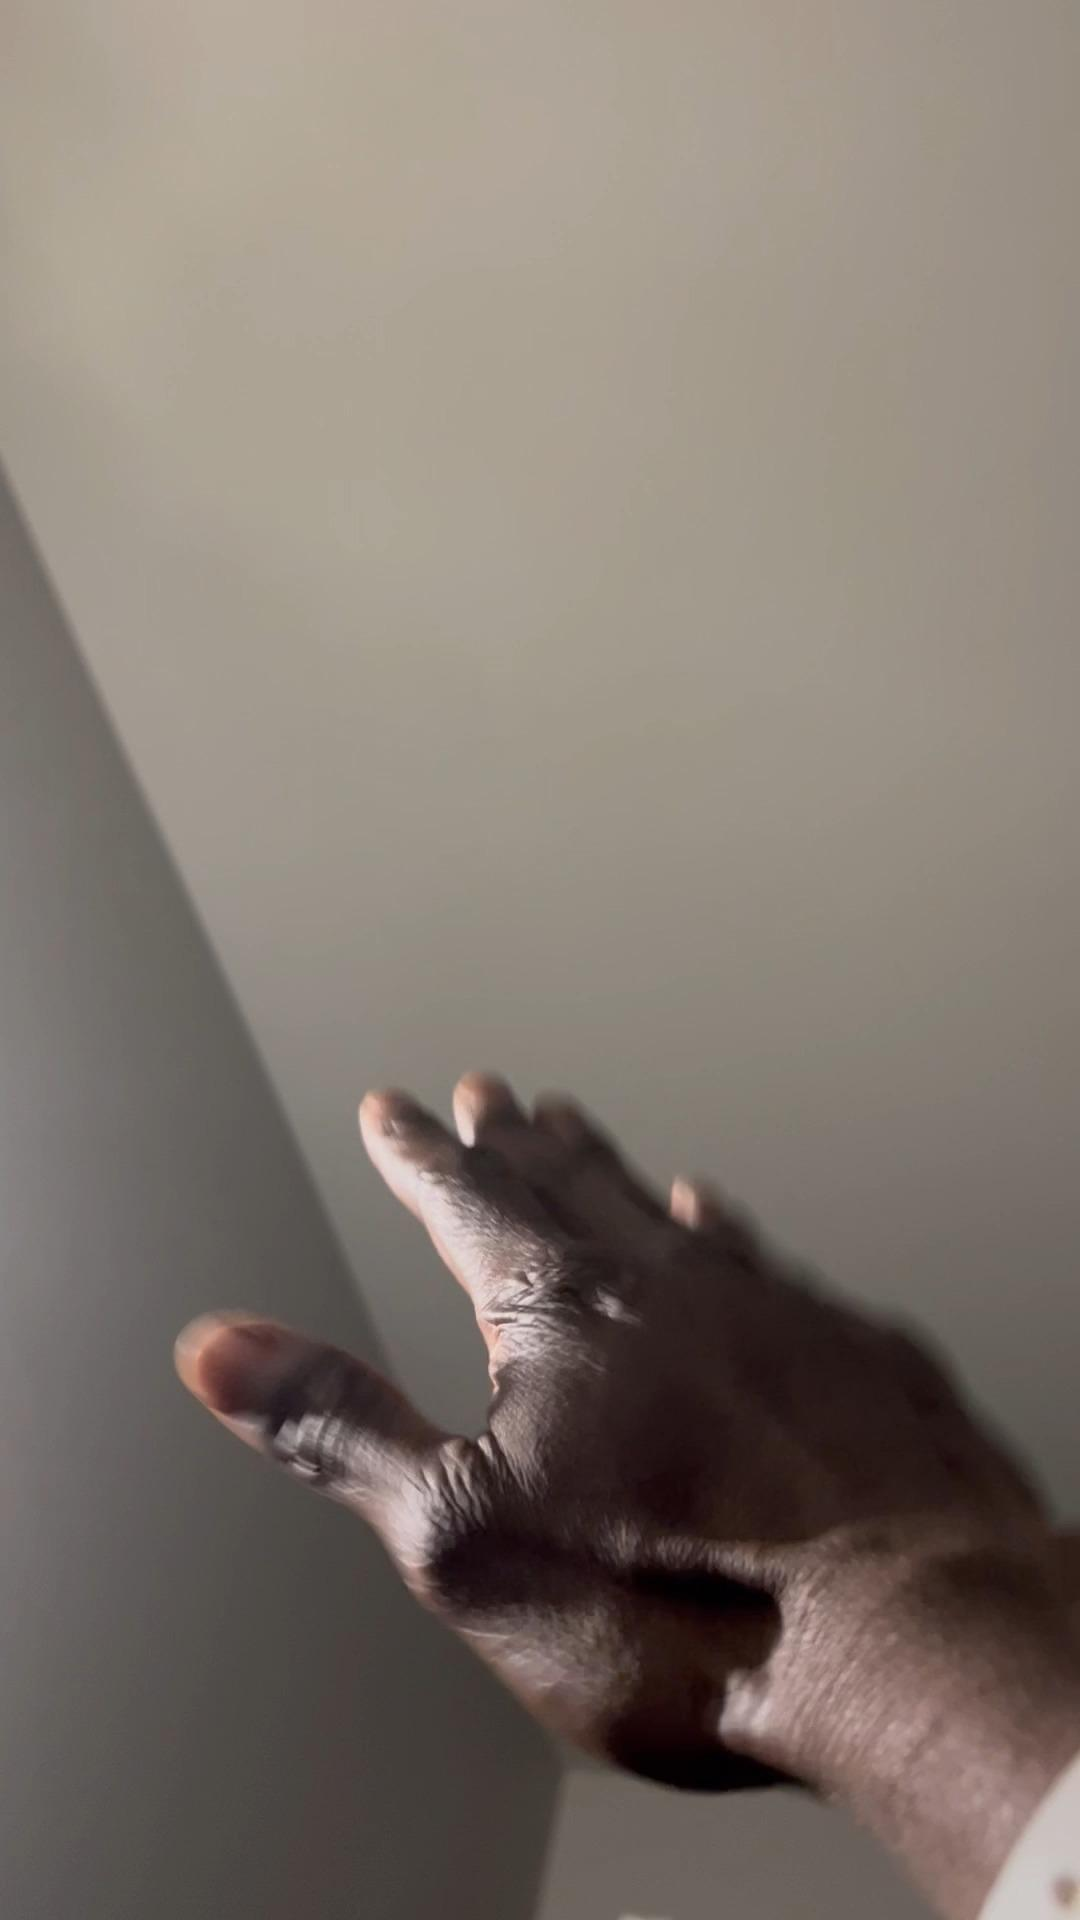Paper: (170, 1063, 1080, 1800)
